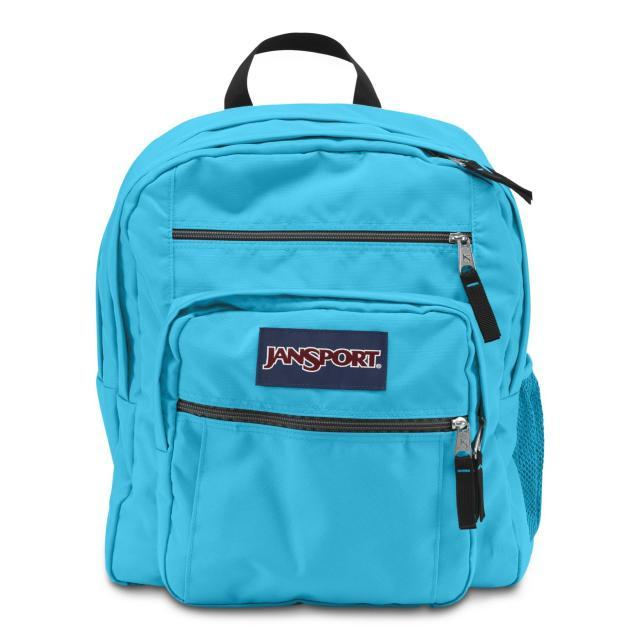Backpacks: (88, 97, 554, 618)
